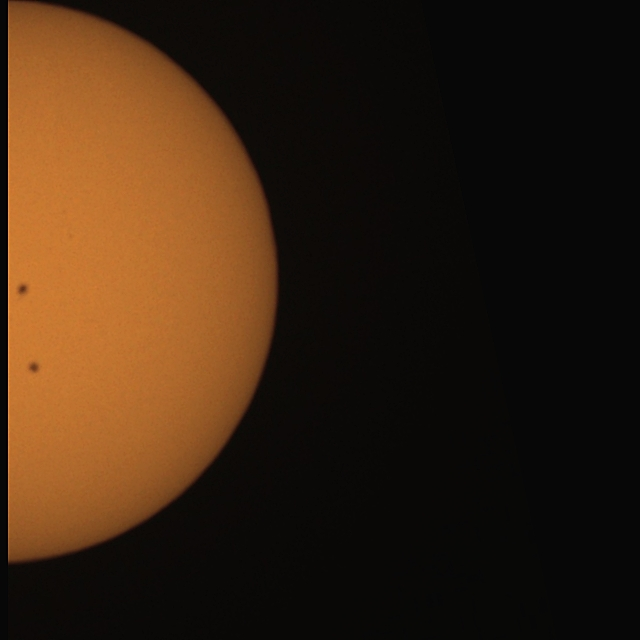sunspot: (26, 360, 42, 376), (15, 282, 30, 298)
